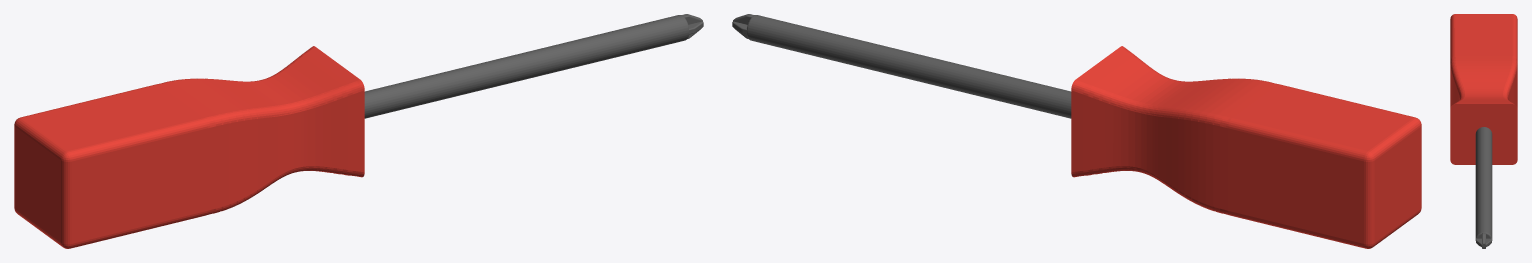
The model's file is Driver.fbx.
The picture shows the model from 3 angles, left to right: view 1: azimuth 30°, elevation 25°; view 2: azimuth 150°, elevation 25°; view 3: azimuth 270°, elevation 25°; orthographic projection. The views are drawn at different scales.
Parts seen in each view (by area): view 1: Cube, Cylinder; view 2: Cube, Cylinder; view 3: Cube, Cylinder, Cube.002, Cube.001.
Part boxes in pixels (<box>): Cube: <box>14,46,364,248</box>; Cylinder: <box>364,15,688,118</box>; Cube: <box>1071,46,1421,248</box>; Cylinder: <box>747,15,1071,118</box>; Cube: <box>1450,14,1517,164</box>; Cylinder: <box>1475,127,1492,245</box>; Cube.002: <box>1476,238,1491,247</box>; Cube.001: <box>1482,232,1485,248</box>.
Bounding box in the file's own units: 14.32 × 2 × 2.
